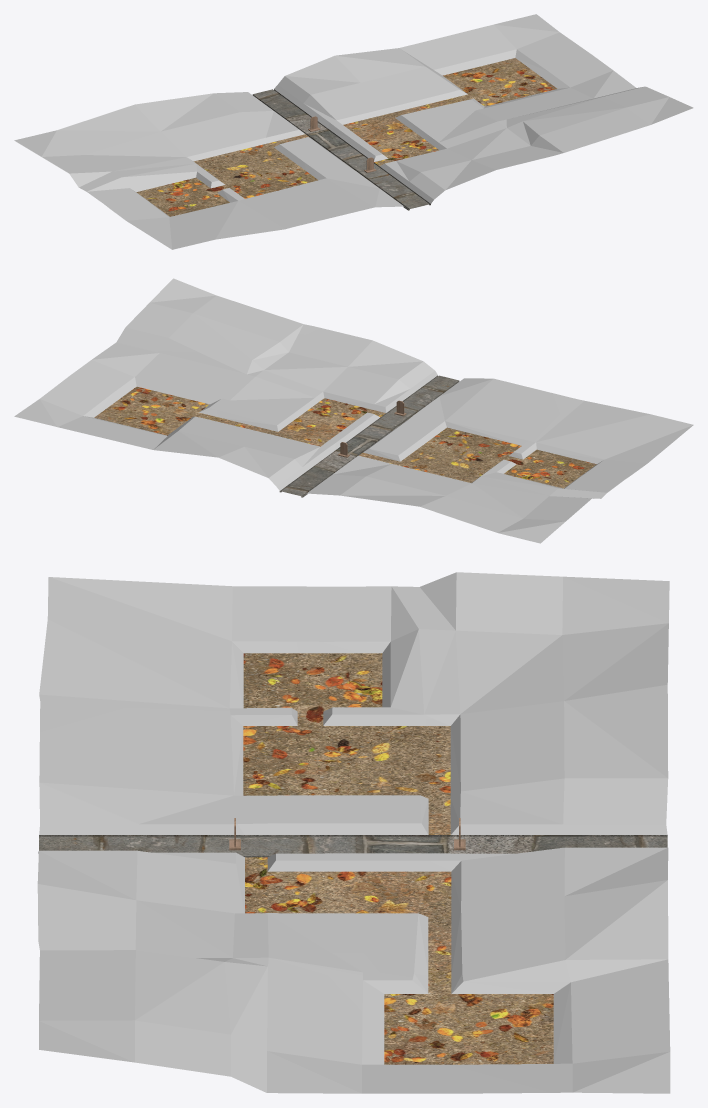
The model's file is bambooGroveRoad.obj.
3 renders of one model, top to bottom at view 1: azimuth 30°, elevation 25°; view 2: azimuth 150°, elevation 25°; view 3: azimuth 270°, elevation 25°, orthographic. The views are drawn at different scales.
Visible parts, largest first — view 1: 平面.002, 平面, 平面.001, 平面.003; view 2: 平面.002, 平面, 平面.001, 平面.003; view 3: 平面.002, 平面, 平面.001, 平面.003.
Boxes of the visible parts, box(x1,y1,x2,y2) form: 平面.002: box(14, 14, 693, 249); 平面: box(136, 58, 557, 216); 平面.001: box(130, 49, 569, 216); 平面.003: box(252, 89, 430, 210); 平面.002: box(14, 278, 693, 543); 平面: box(94, 386, 596, 488); 平面.001: box(83, 371, 604, 494); 平面.003: box(279, 375, 459, 497); 平面.002: box(37, 572, 670, 1093); 平面: box(243, 653, 553, 1064); 平面.001: box(38, 641, 667, 1064); 平面.003: box(39, 835, 667, 857).
Size of the model in its own units: 210 by 12.77 by 110.
